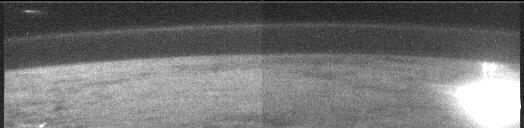positive: (478, 61, 499, 81)
